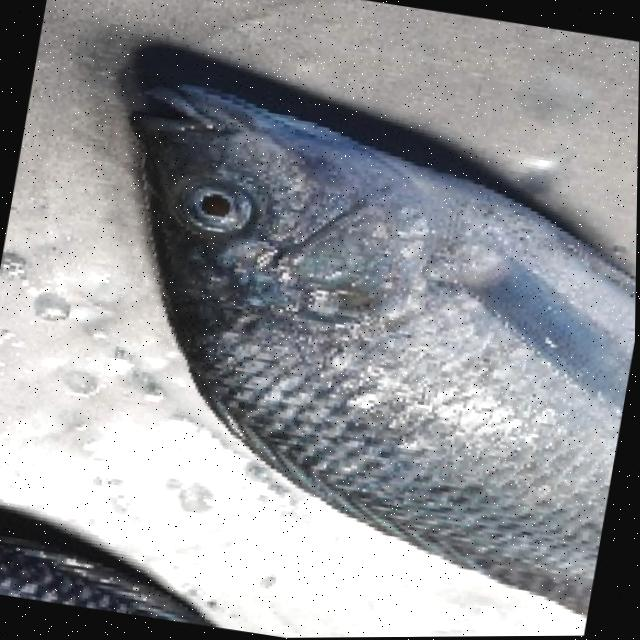Fresh: (55, 38, 640, 556)
